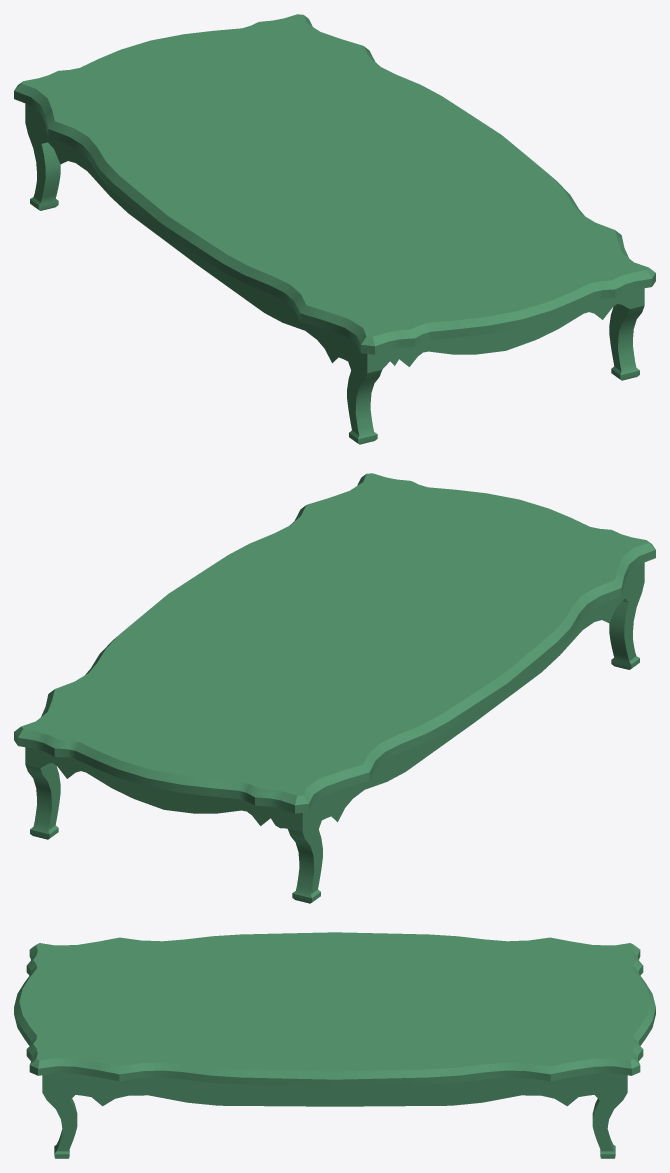
The model's file is Fancy_Table_V4.fbx.
3 views of the same model, one above another, from view 1: azimuth 30°, elevation 25°; view 2: azimuth 150°, elevation 25°; view 3: azimuth 270°, elevation 25° (orthographic). The views are drawn at different scales.
Parts seen in each view (by area): view 1: Fancy_Table; view 2: Fancy_Table; view 3: Fancy_Table.
Boxes of the visible parts, x1,y1,x2,y2 form: Fancy_Table: (14, 14, 655, 444); Fancy_Table: (14, 473, 655, 903); Fancy_Table: (14, 932, 655, 1158).
Bounding box in the file's own units: 340 × 109 × 642.
